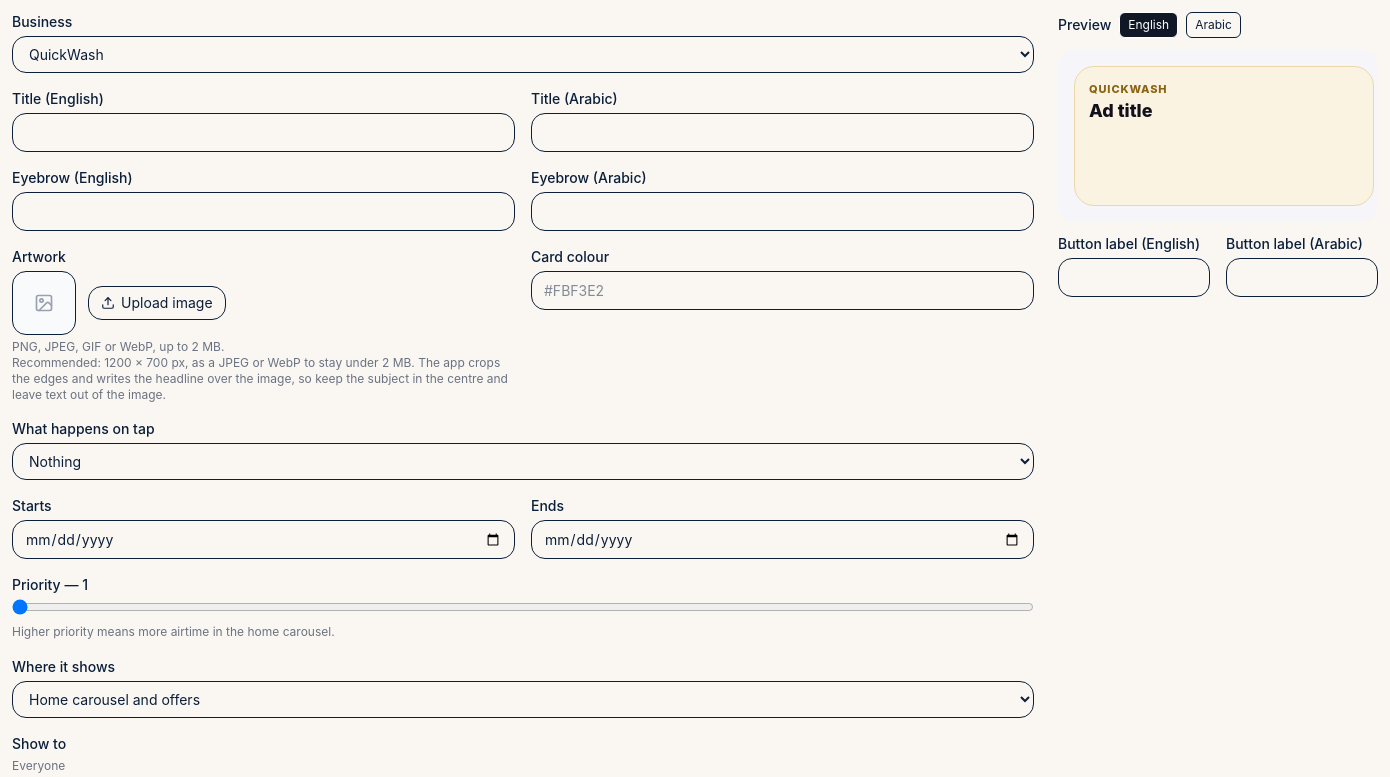
it: AdEditor redirect link (admin) › is part of the coupon section only
Expected: the field labelled "After copying, open this link (optional)" is not shown
Select "Open website" in the dropdown labelled "What happens on tap" at (523, 462), box [12,443,1034,480]
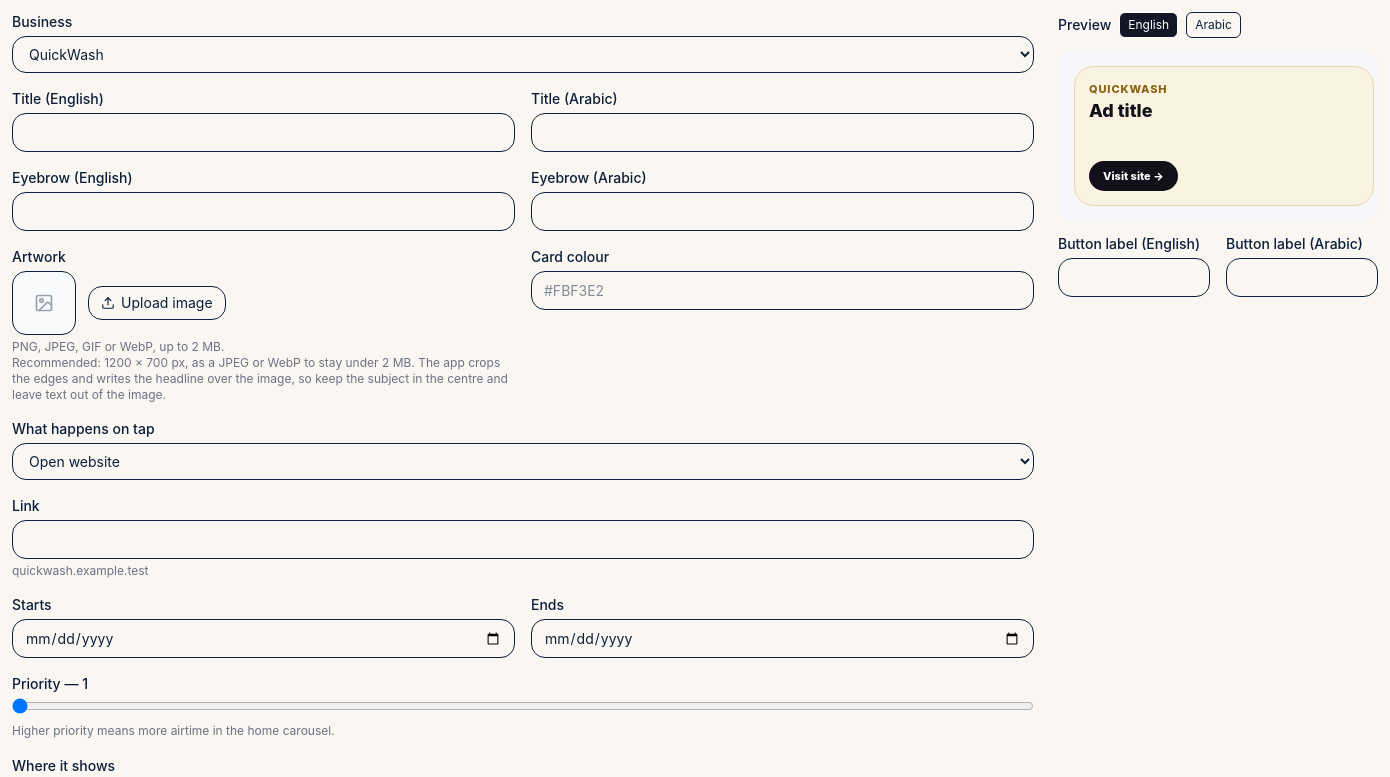
Expected: the field labelled "After copying, open this link (optional)" is not shown
Select "Show coupon code" in the dropdown labelled "What happens on tap" at (523, 462), box [12,443,1034,480]
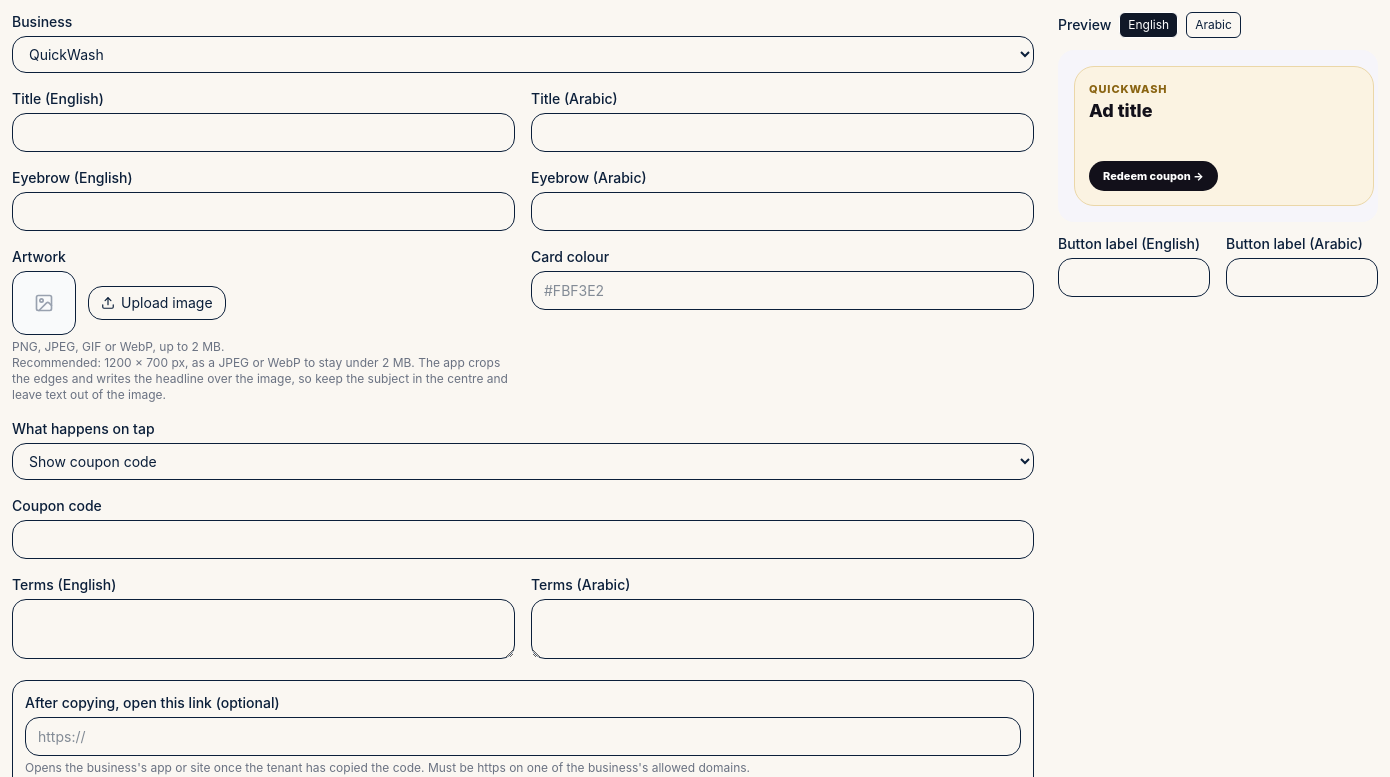
Now the field labelled "After copying, open this link (optional)" is shown, box [25,717,1021,756]
